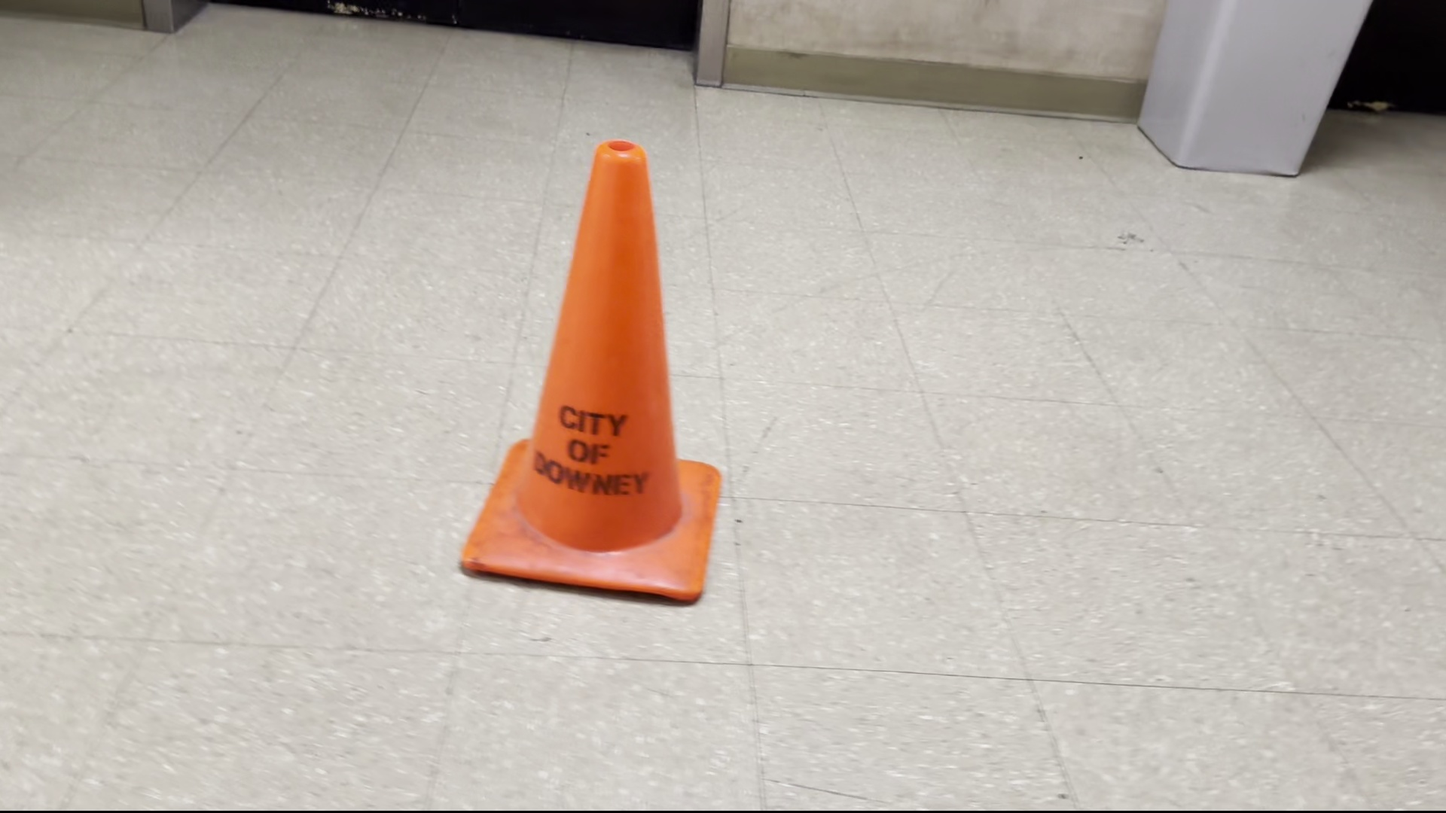traffic_cone: (459, 138, 722, 605)
